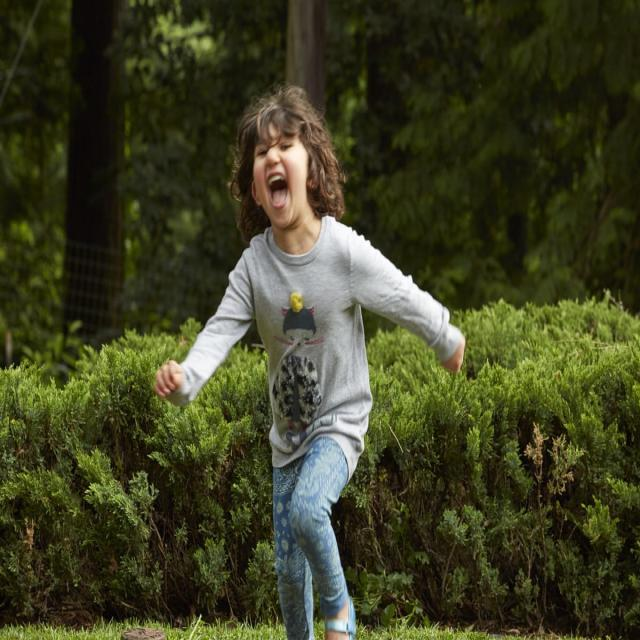Person: (154, 84, 466, 640)
